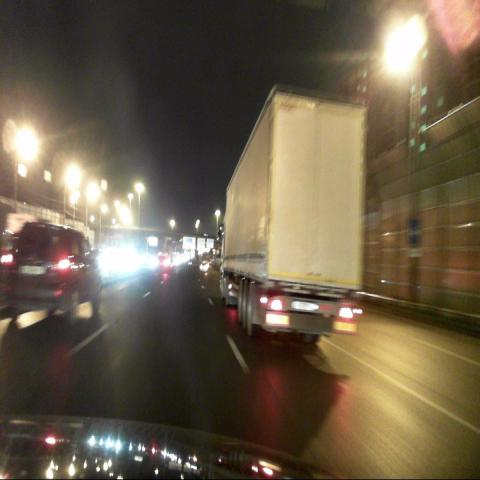5_3: (408, 217, 418, 245)
